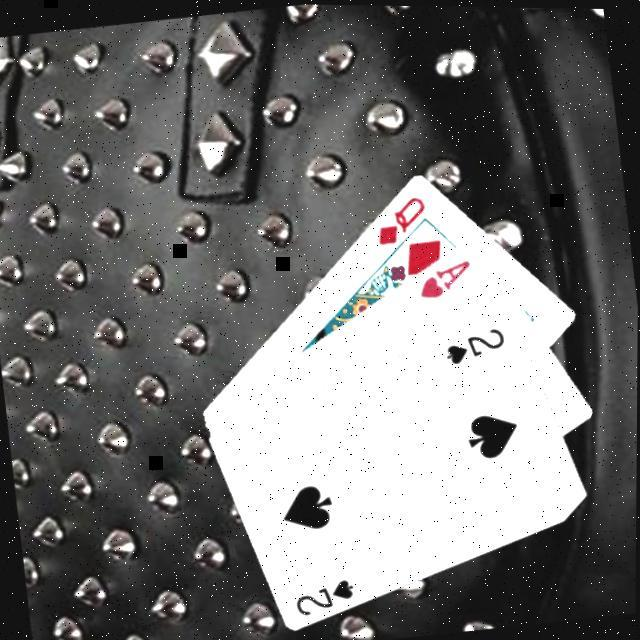2S: (439, 319, 509, 366), (290, 571, 360, 618)
AH: (410, 252, 478, 302)
QD: (368, 188, 432, 248)
